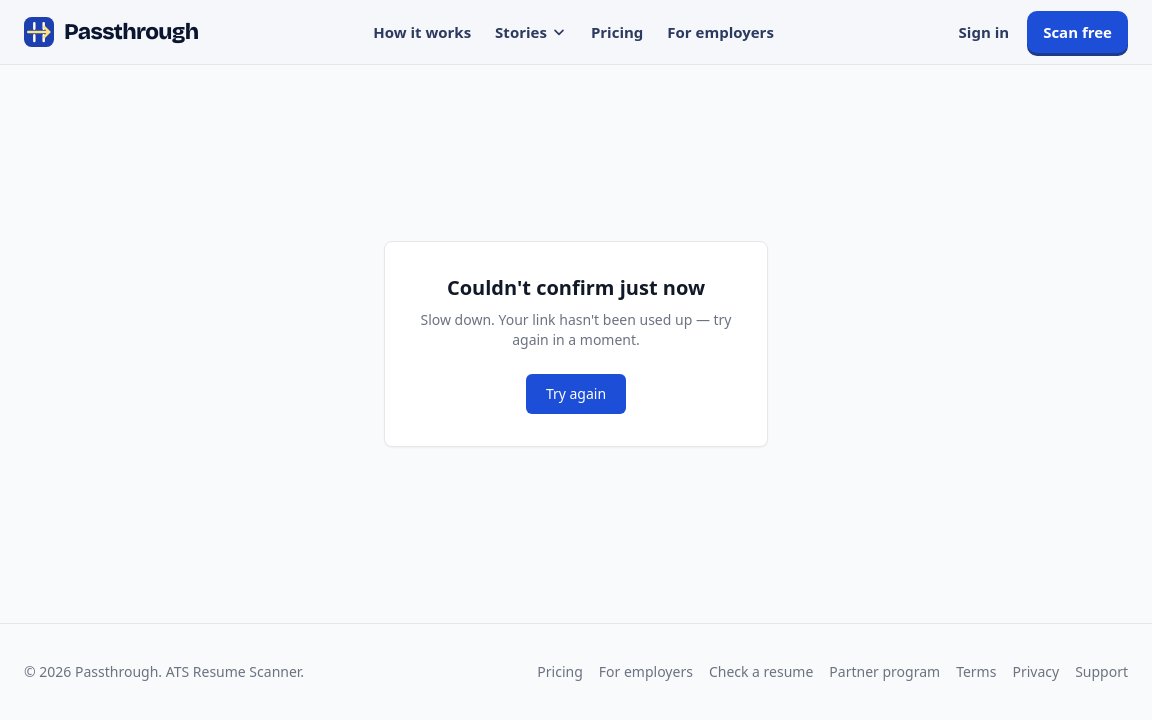
Scenario: ConfirmEmailChange — round 6 retry › status 429 is not reported as a dead link; Try again re-submits the same token
Expected: the heading "Couldn't confirm just now" is shown, top-left (447, 274), bottom-right (705, 301)
What coordinates should you click on to do the following:
click the button "Try again"
I would click on:
 (576, 394)
Its box is top-left (526, 374), bottom-right (626, 414).
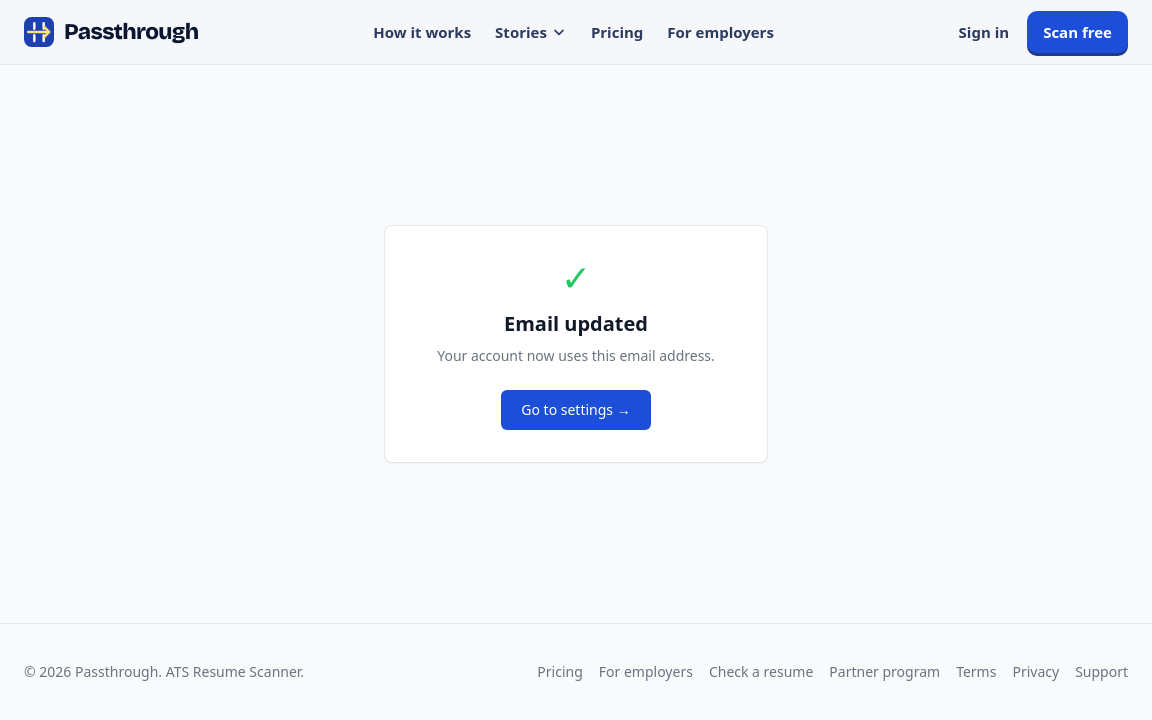
Now the heading "Email updated" is shown, box top-left (504, 310), bottom-right (648, 337)
